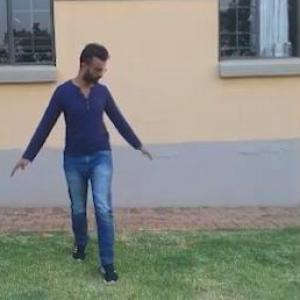land: (8, 29, 172, 273)
